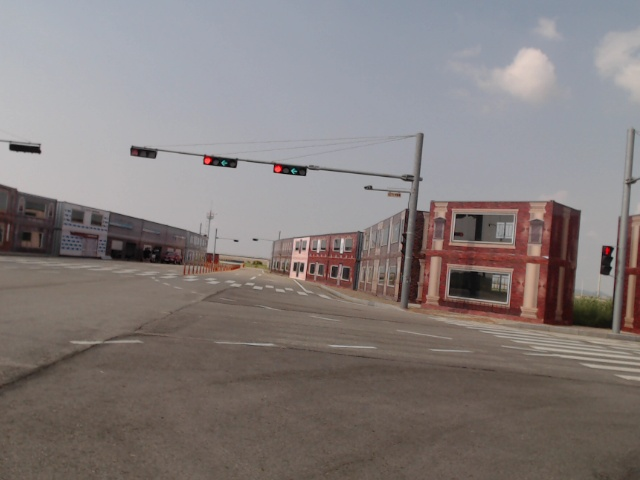left_green_4: (274, 163, 307, 176), (204, 156, 237, 168)
